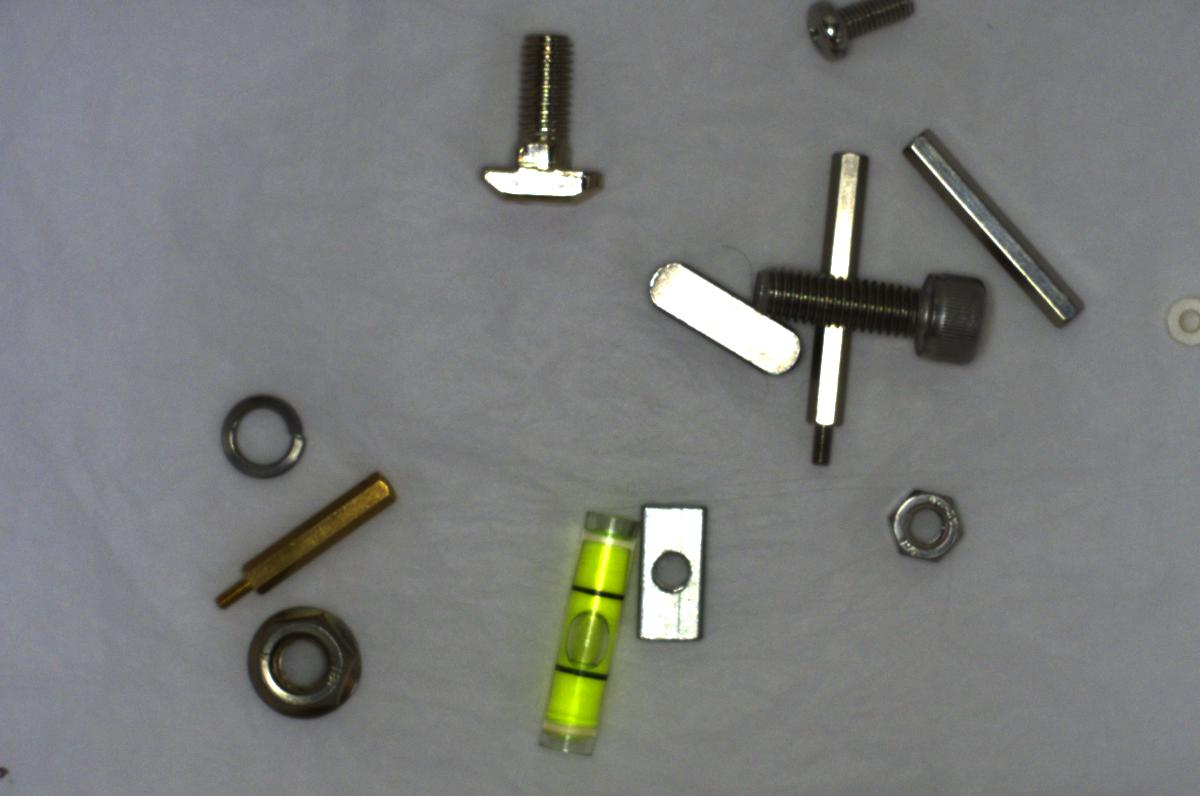Double hexagonal column: (896, 128, 1094, 331)
Flange nut: (238, 598, 379, 723)
Hexagon nut: (861, 480, 975, 581)
Hexagon pillar: (202, 464, 412, 617)
Hexagon screw: (755, 250, 992, 373)
Hexagonal steel column: (773, 133, 893, 476)
Horizontal bubble: (523, 505, 646, 753)
Keybar: (632, 255, 814, 377)
Plastic cushion pillar: (1155, 285, 1199, 352)
Rectangular nut: (626, 499, 724, 651)
Round head screw: (794, 1, 932, 68)
Spring washer: (214, 386, 312, 480)
T-shaped screw: (480, 19, 608, 208)
